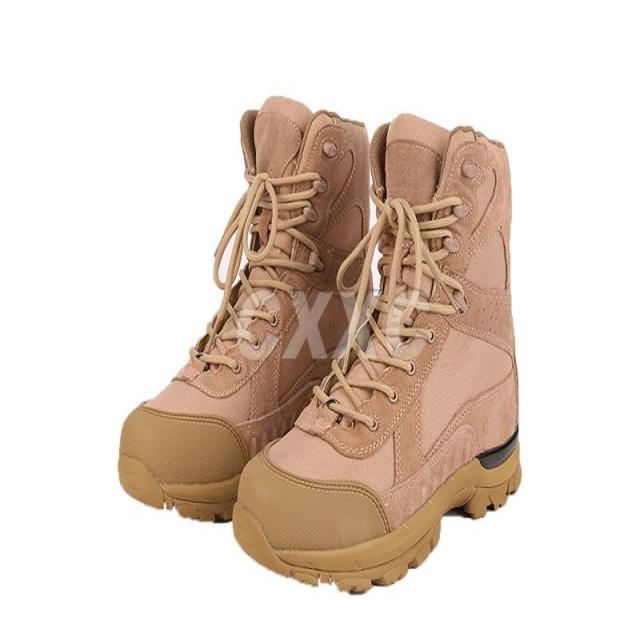boot: (284, 108, 538, 592), (119, 90, 368, 524)
